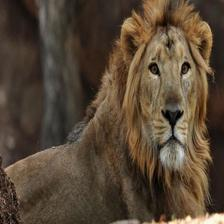Lion: (72, 0, 224, 220)
